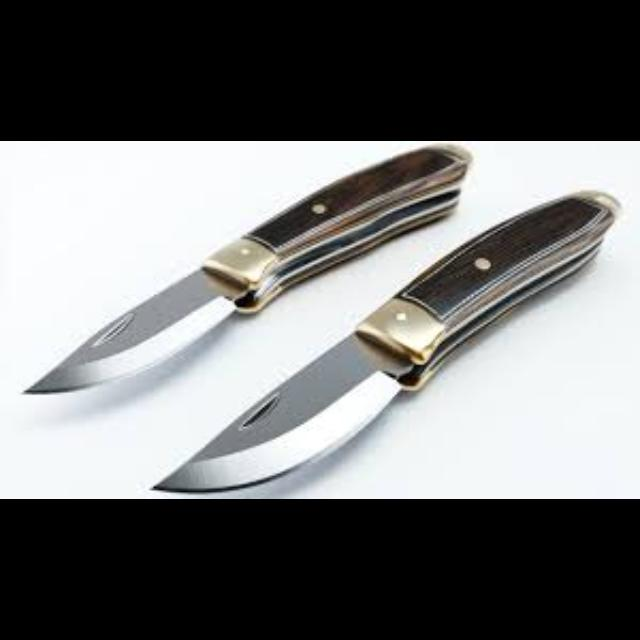knife: (147, 188, 618, 492), (21, 142, 473, 394)
